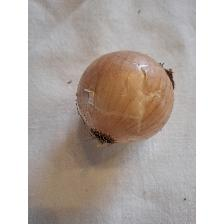Zwiebel: (74, 49, 176, 149)
